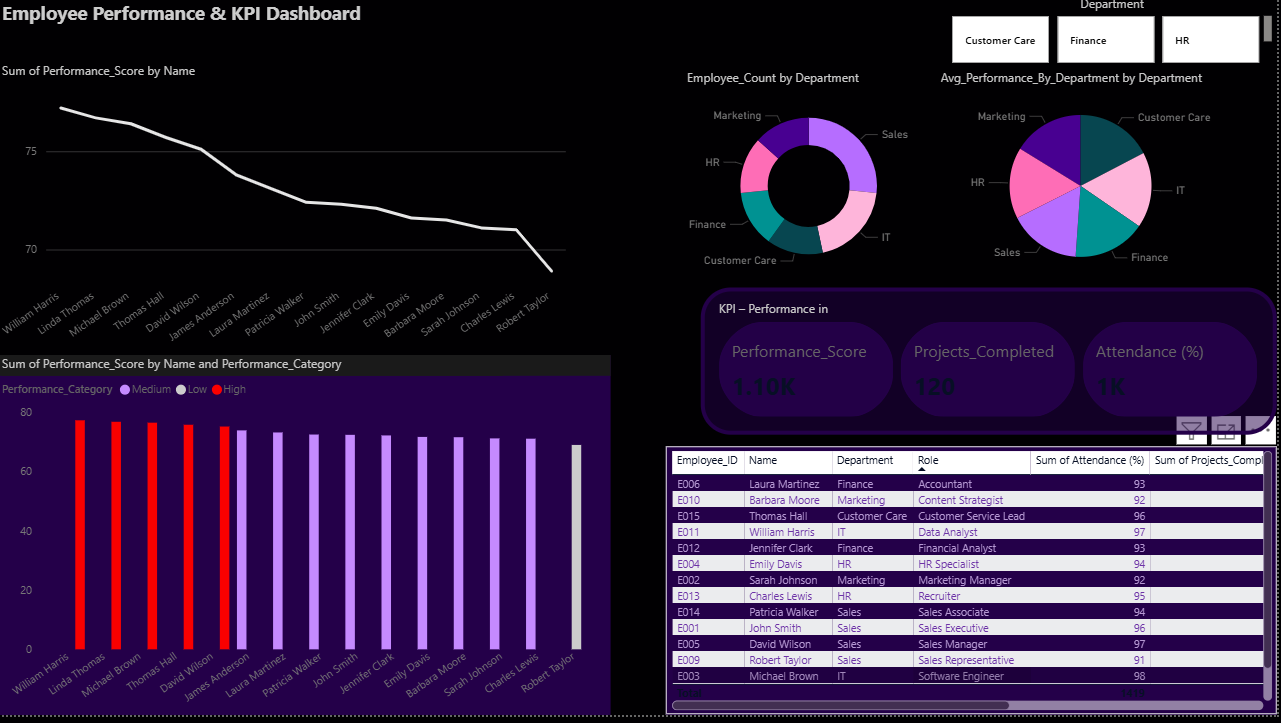

This screenshot's page, from the dashboard's own definition file:
{"tool":"powerbi","page":{"name":"Employee Performance & KPI Dashboard","canvas":[1280,720],"ordinal":0},"visuals":[{"type":"clusteredColumnChart","fields":{"Category":["Sheet1.Name"],"Y":["Sheet1.Performance_Score"],"Series":["Sheet1.Performance_Category"]},"box":[0,360,613.8,360],"z":0},{"type":"tableEx","fields":{"Values":["Sheet1.Employee_ID","Sheet1.Name","Sheet1.Department","Sheet1.Role","Sheet1.Attendance (%)","Sheet1.Projects_Completed","Sheet1.Customer_Feedback_Score","Sheet1.Work_Hours","Sheet1.Performance_Score"]},"box":[668.8,451.2,611.2,268.8],"z":1000},{"type":"cardVisual","title":"KPI – Performance in","fields":{"Data":["Sheet1.Performance_Score","Sheet1.Projects_Completed","Sheet1.Attendance (%)"]},"box":[703.8,292.5,576.2,147.5],"z":2000},{"type":"lineChart","fields":{"Category":["Sheet1.Name"],"Y":["Sheet1.Performance_Score"]},"box":[0,67.5,573.8,292.5],"z":3000},{"type":"advancedSlicerVisual","fields":{"Values":["Sheet1.Department"]},"box":[950,0,330,73.8],"z":4000},{"type":"pieChart","fields":{"Category":["Sheet1.Department"],"Y":["Sheet1.Avg_Performance_By_Department"]},"box":[938.8,73.8,290,218.8],"z":5000},{"type":"donutChart","fields":{"Category":["Sheet1.Department"],"Y":["Sheet1.Employee_Count"]},"box":[685,73.8,253.8,218.8],"z":6000},{"type":"textbox","box":[0,0,573.8,62.5],"z":7000}]}

Visuals, with their boxes in screenshot pixels (x1, y1, x2, y2), scaled from the page's 1280x720 canvas onto the 1281x723 screenshot:
clusteredColumnChart - Sheet1.Name x Sheet1.Performance_Score: [left=0, top=362, right=614, bottom=722]
tableEx - Sheet1.Employee_ID x Sheet1.Name: [left=669, top=453, right=1280, bottom=722]
"KPI – Performance in" cardVisual: [left=704, top=294, right=1280, bottom=442]
lineChart - Sheet1.Name x Sheet1.Performance_Score: [left=0, top=68, right=574, bottom=362]
advancedSlicerVisual - Sheet1.Department: [left=951, top=0, right=1280, bottom=74]
pieChart - Sheet1.Department x Sheet1.Avg_Performance_By_Department: [left=940, top=74, right=1230, bottom=294]
donutChart - Sheet1.Department x Sheet1.Employee_Count: [left=686, top=74, right=940, bottom=294]
textbox: [left=0, top=0, right=574, bottom=63]
